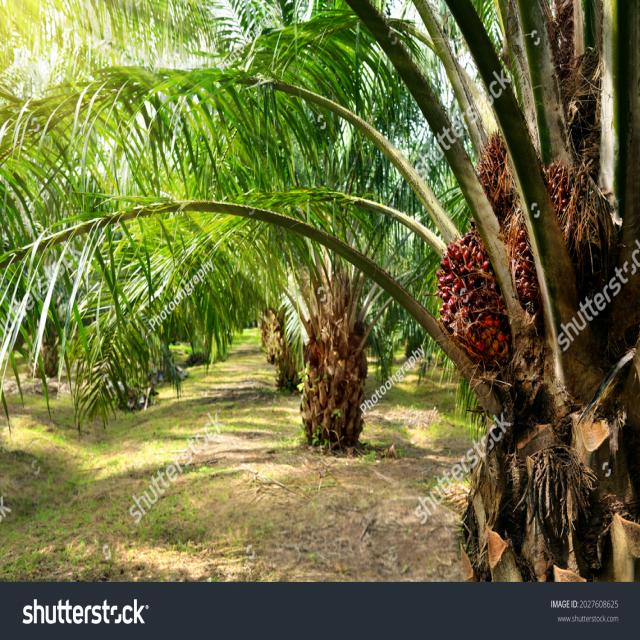FFB: (513, 153, 586, 328), (439, 235, 504, 356)
